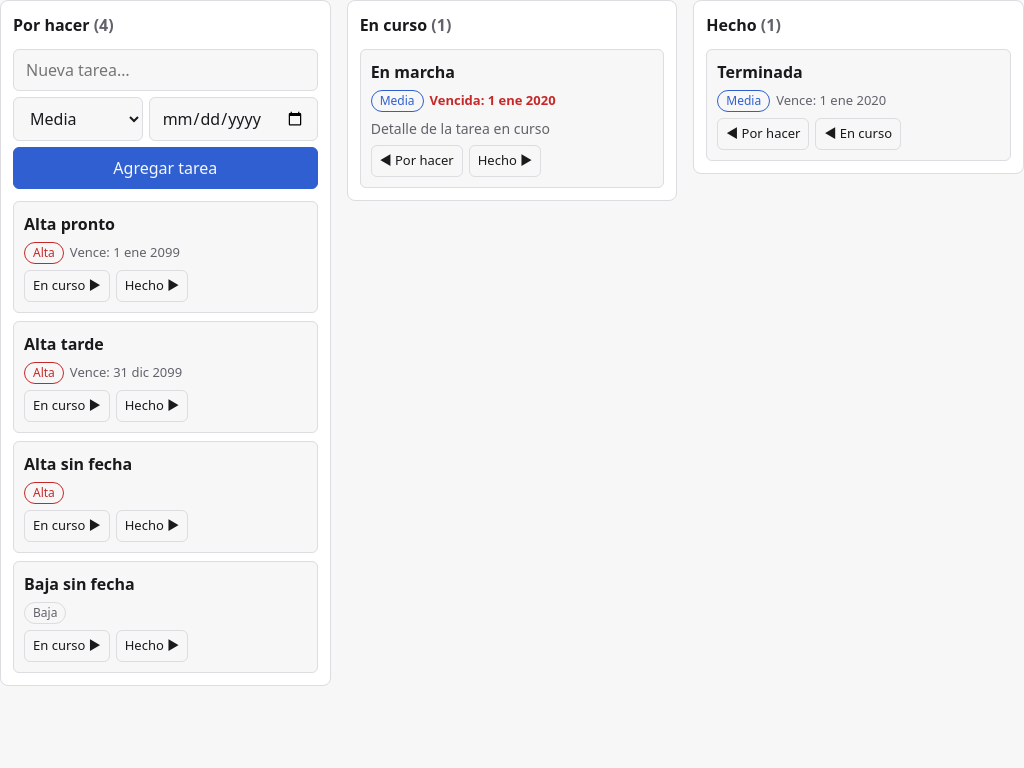
Test: TaskBoard editor › opens a dialog with the task data
Click the button "En marcha" at [413, 72], box top-left (371, 60), bottom-right (653, 84)
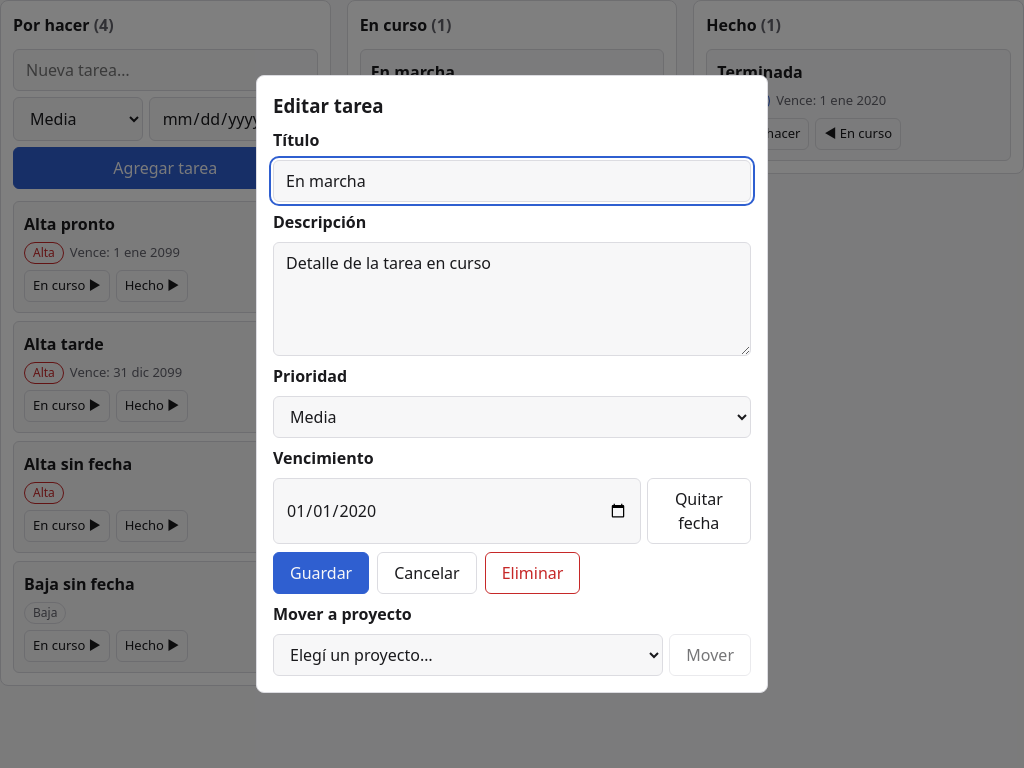
Now the field labelled "Título" holds "En marcha", box top-left (273, 160), bottom-right (751, 202)
Now the text box labelled "Descripción" holds "Detalle de la tarea en curso", box top-left (273, 242), bottom-right (751, 356)
Now the dropdown labelled "Prioridad" shows "Media", box top-left (273, 396), bottom-right (751, 438)
